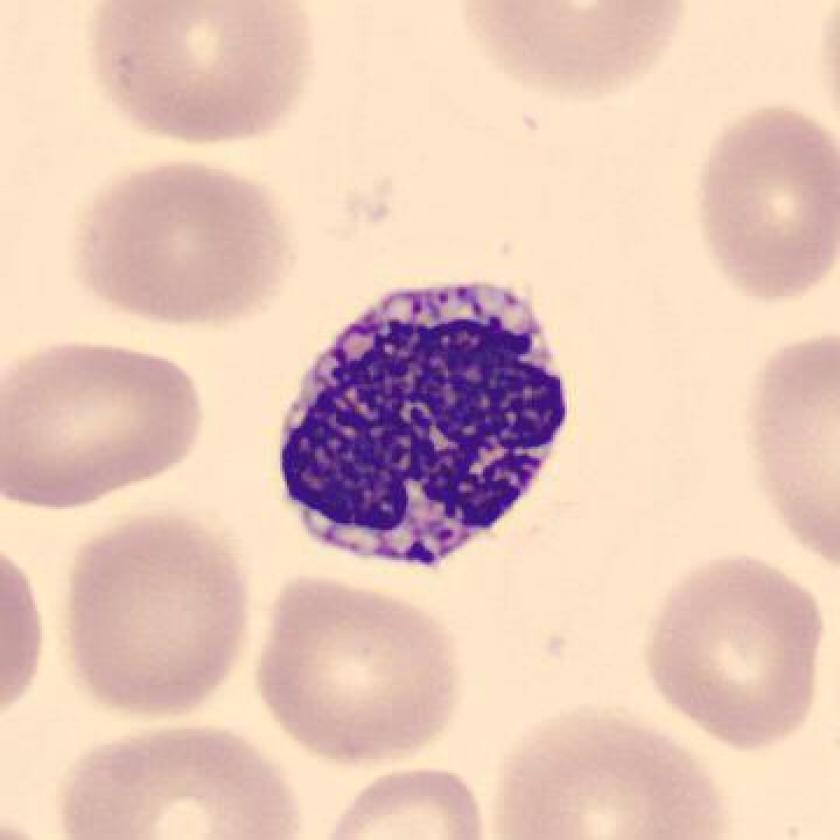basophil: (260, 272, 580, 582)
